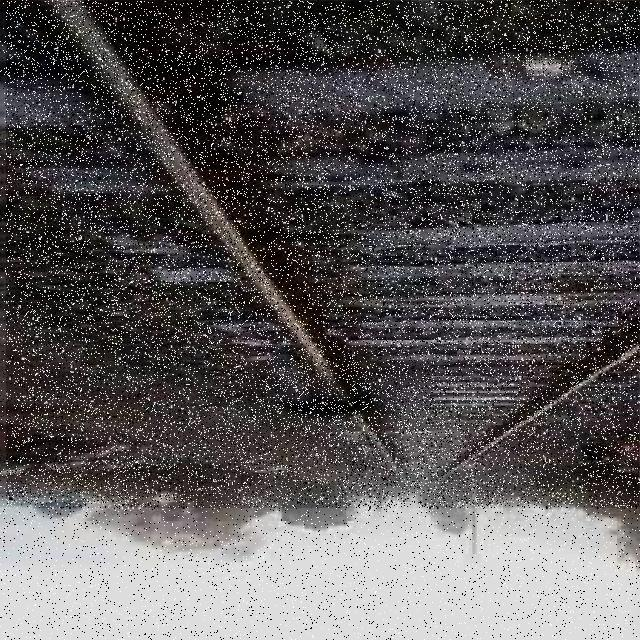rail: (7, 3, 640, 509)
